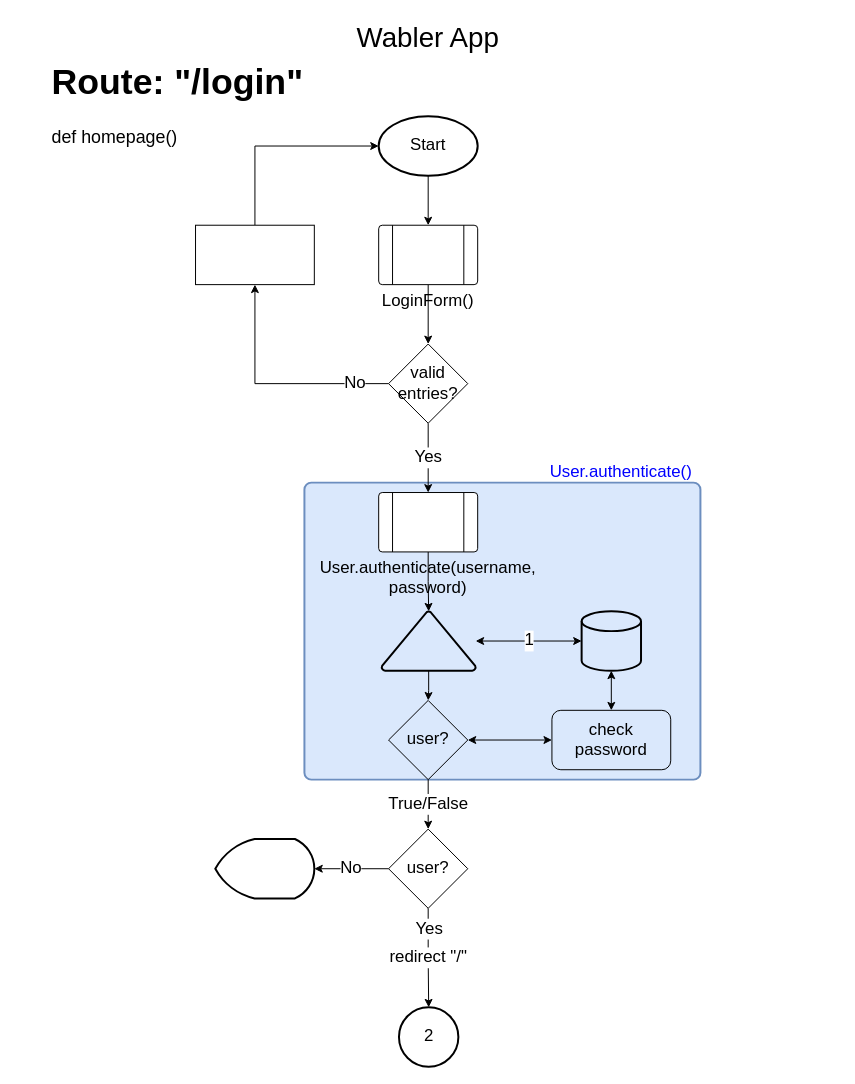
This 855x1084 diagram has some shape labels left out. Each missing label, with the centre of its shape:
"invalid credentials" belongs at [264,868].
"query by filter user" belongs at [428,640].
"render login.html" belongs at [254,254].
"warbler" belongs at [611,640].
